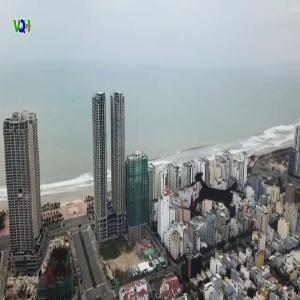drone: (157, 146, 268, 257)
